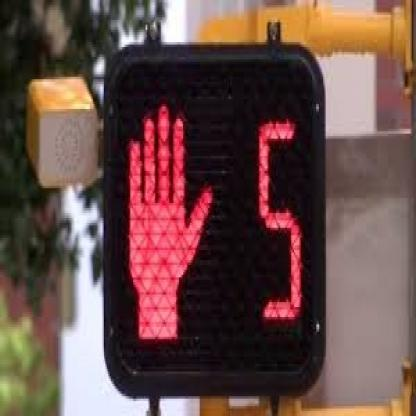Don-t Walk: (107, 55, 232, 392)
